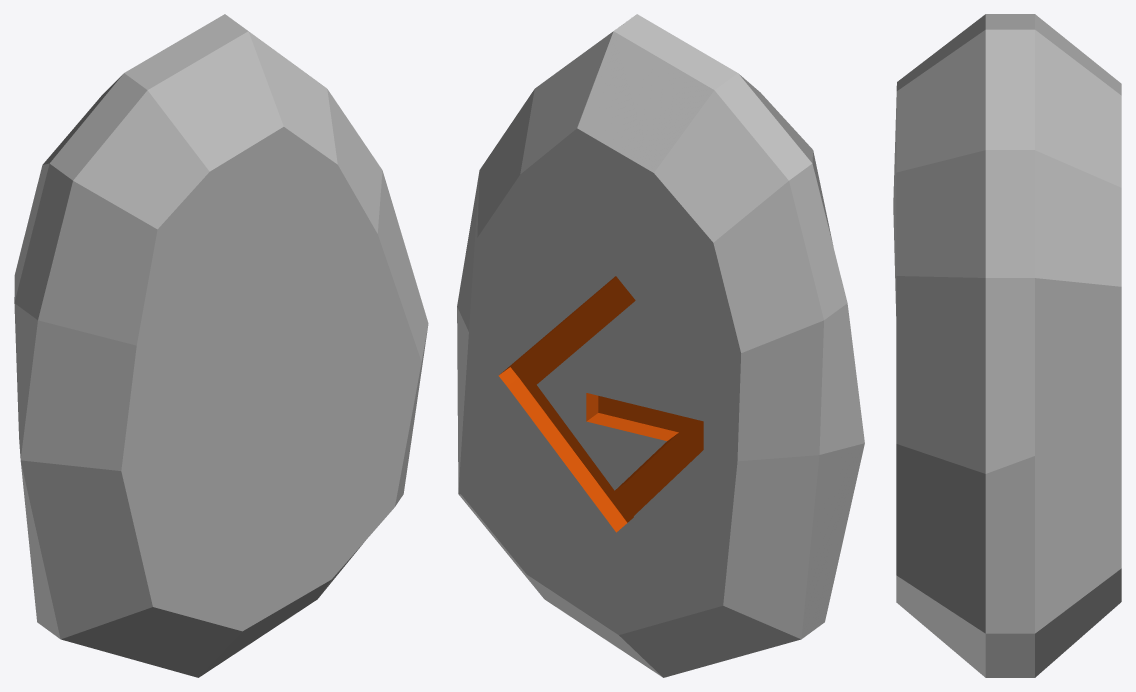
File: FireRune 1.fbx
3 renders of one model, left to right at view 1: azimuth 30°, elevation 25°; view 2: azimuth 150°, elevation 25°; view 3: azimuth 270°, elevation 25°, orthographic. The views are drawn at different scales.
Parts seen in each view (by area): view 1: FireRune; view 2: FireRune; view 3: FireRune.
Boxes of the visible parts, x1,y1,x2,y2 form: FireRune: (14,14,428,677); FireRune: (457,14,864,677); FireRune: (893,14,1121,677).
Size of the model in its own units: 1.57 by 2.34 by 0.729.
